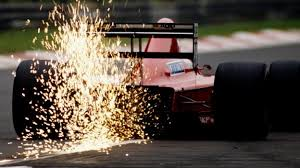FormulaOneCar: (13, 16, 300, 147)
